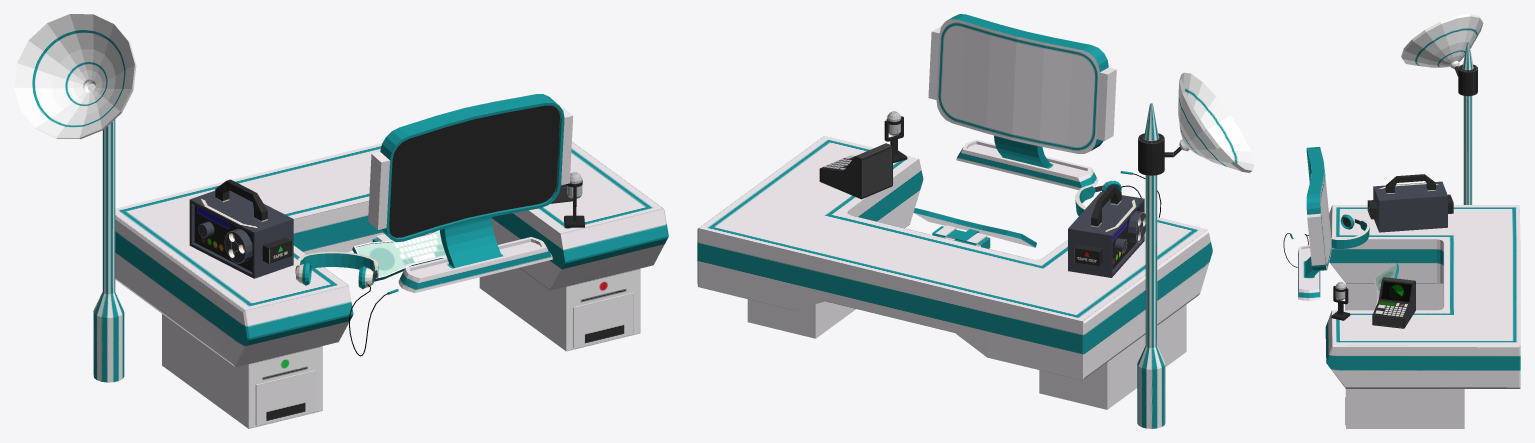
File: Communication.dae
The picture shows the model from 3 angles, left to right: view 1: azimuth 30°, elevation 25°; view 2: azimuth 150°, elevation 25°; view 3: azimuth 270°, elevation 25°; orthographic projection. The views are drawn at different scales.
Parts seen in each view (by area): view 1: Desk Component, Monitor, Antenna, Tape Player, Keyboard, Headset, Microphone; view 2: Desk Component, Monitor, Antenna, Tape Player, Radar Device, Keyboard, Microphone, Headset; view 3: Desk Component, Antenna, Tape Player, Monitor, Radar Device, Headset, Microphone, Keyboard.
Boxes of the visible parts, x1=… form: Desk Component: x1=115, y1=141, x2=668, y2=428; Monitor: x1=368, y1=94, x2=573, y2=293; Antenna: x1=14, y1=14, x2=136, y2=382; Tape Player: x1=189, y1=179, x2=293, y2=278; Keyboard: x1=352, y1=230, x2=446, y2=281; Headset: x1=295, y1=251, x2=398, y2=356; Microphone: x1=564, y1=172, x2=584, y2=227; Desk Component: x1=697, y1=136, x2=1212, y2=409; Monitor: x1=928, y1=14, x2=1116, y2=189; Antenna: x1=1137, y1=72, x2=1254, y2=428; Tape Player: x1=1068, y1=185, x2=1145, y2=277; Radar Device: x1=819, y1=143, x2=892, y2=199; Keyboard: x1=913, y1=208, x2=1036, y2=248; Microphone: x1=884, y1=111, x2=907, y2=162; Headset: x1=1075, y1=171, x2=1161, y2=217; Desk Component: x1=1325, y1=205, x2=1520, y2=428; Antenna: x1=1401, y1=14, x2=1483, y2=204; Tape Player: x1=1367, y1=174, x2=1453, y2=232; Monitor: x1=1298, y1=146, x2=1331, y2=300; Radar Device: x1=1372, y1=277, x2=1415, y2=328; Headset: x1=1283, y1=214, x2=1369, y2=267; Microphone: x1=1331, y1=281, x2=1350, y2=320; Keyboard: x1=1374, y1=263, x2=1414, y2=309.
Bounding box in the file's own units: 4.38 × 2.37 × 2.84.
